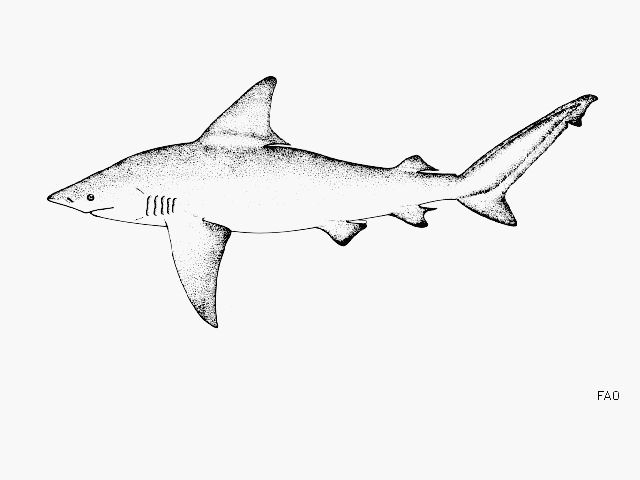fish: (48, 77, 599, 329)
